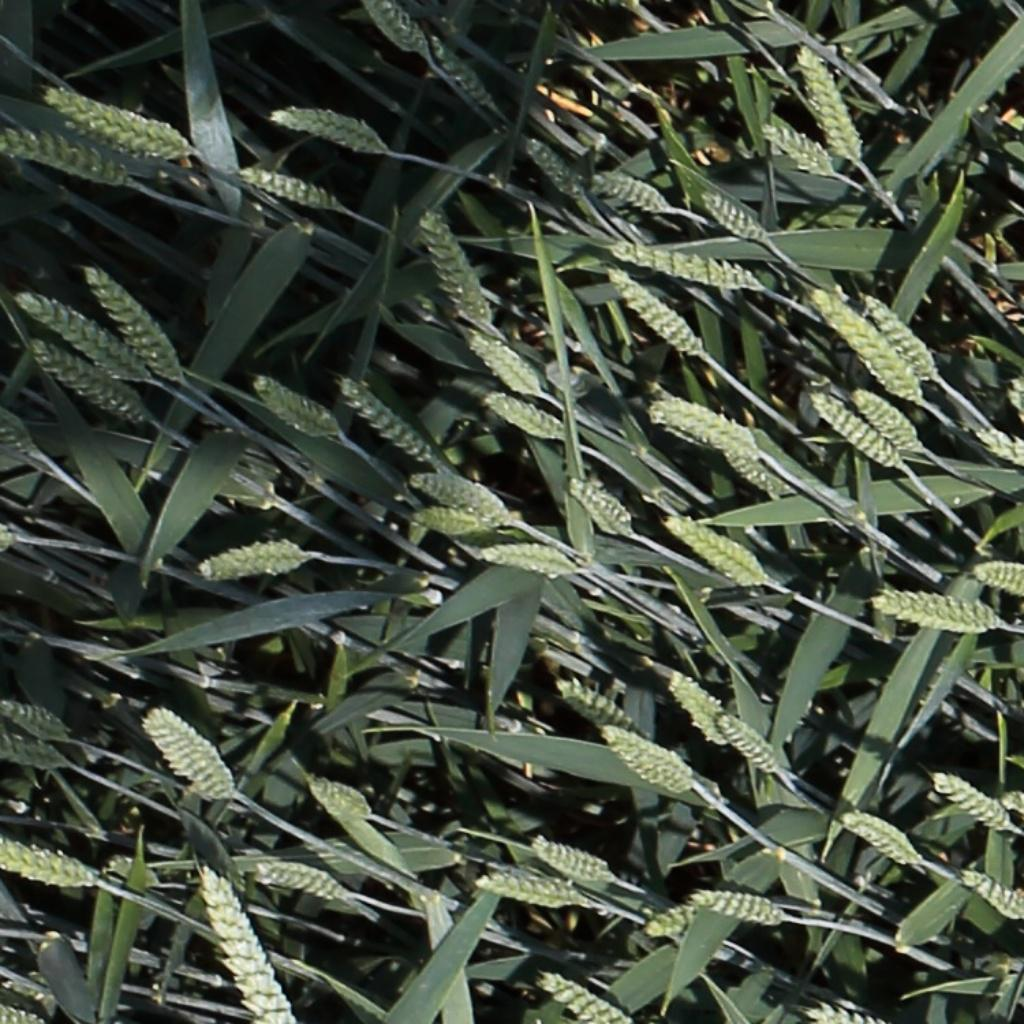0-0: (192, 861, 298, 1024), (805, 283, 917, 402), (12, 294, 155, 387), (44, 86, 202, 163), (80, 264, 181, 380), (30, 339, 143, 423), (603, 263, 700, 356), (791, 36, 862, 163), (415, 206, 488, 326), (334, 371, 433, 459), (664, 516, 776, 592), (141, 711, 230, 802), (858, 286, 939, 379), (808, 390, 898, 471), (614, 244, 765, 291), (596, 722, 703, 783), (2, 129, 125, 182), (420, 27, 494, 114), (195, 533, 313, 585), (873, 591, 1004, 634), (271, 107, 385, 156), (0, 834, 97, 891), (662, 670, 729, 749), (241, 857, 351, 905), (406, 471, 510, 520), (931, 772, 1013, 834), (462, 329, 539, 395), (647, 401, 756, 447), (536, 972, 631, 1024), (251, 376, 334, 435), (555, 679, 640, 735), (609, 742, 697, 795), (472, 539, 580, 582), (851, 386, 922, 451), (715, 712, 782, 778), (570, 473, 637, 539), (839, 813, 918, 868), (473, 871, 587, 909), (760, 120, 834, 178), (518, 132, 581, 197), (715, 436, 783, 496), (237, 165, 334, 207), (483, 391, 566, 439), (686, 891, 785, 930), (529, 839, 611, 884), (697, 187, 765, 241), (364, 0, 427, 55), (959, 869, 1024, 922), (588, 172, 667, 213), (408, 505, 495, 541), (641, 897, 709, 937), (0, 700, 66, 740), (305, 776, 368, 817), (974, 428, 1024, 475), (804, 999, 889, 1024), (970, 558, 1024, 592), (1004, 378, 1024, 447), (0, 1000, 50, 1024), (996, 789, 1024, 822)
